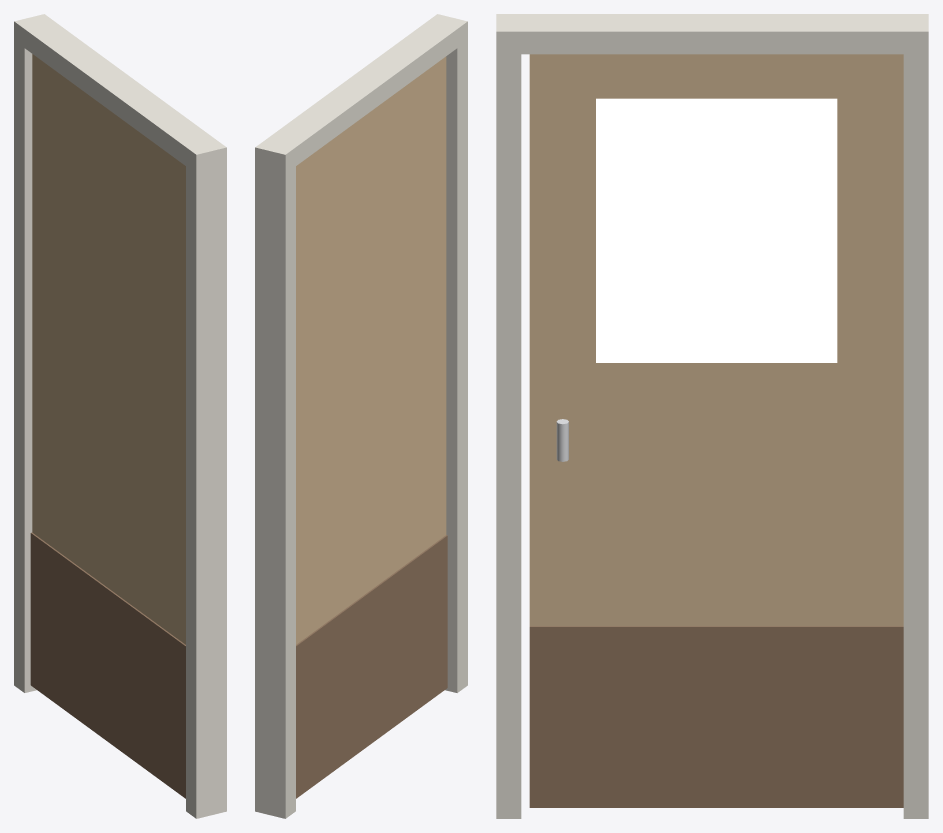
Rendered from shop-door.glb.
3 views of the same model, side by side, from view 1: azimuth 30°, elevation 25°; view 2: azimuth 150°, elevation 25°; view 3: azimuth 270°, elevation 25° (orthographic). The views are drawn at different scales.
Parts seen in each view (by area): view 1: door, frame; view 2: door, frame; view 3: door, frame.
Boxes of the visible parts, box(x1,y1,x2,y2) form: door: box(30, 54, 185, 798); frame: box(14, 14, 226, 818); door: box(296, 56, 447, 798); frame: box(255, 14, 467, 818); door: box(529, 54, 903, 807); frame: box(496, 14, 928, 818).
Bounding box in the file's own units: 0.105 × 2.09 × 1.04.
